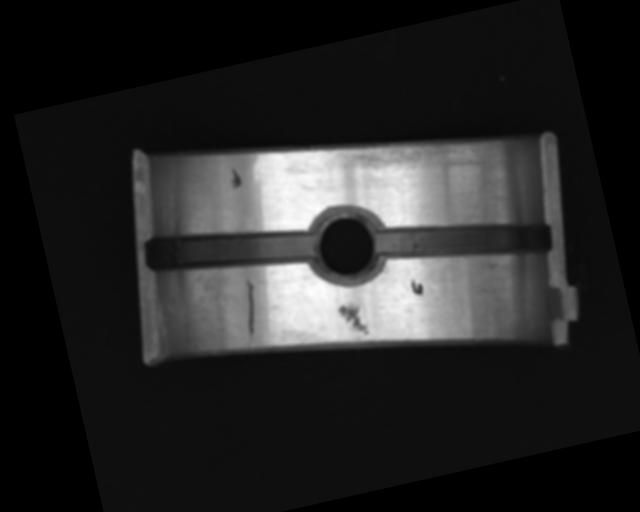blot: (408, 275, 426, 298)
bruise: (337, 300, 370, 340), (228, 166, 242, 189)
gap: (372, 193, 554, 287), (144, 205, 318, 296)
hole: (302, 199, 389, 289)
nick: (236, 278, 265, 343)
scratch: (332, 117, 484, 195)
